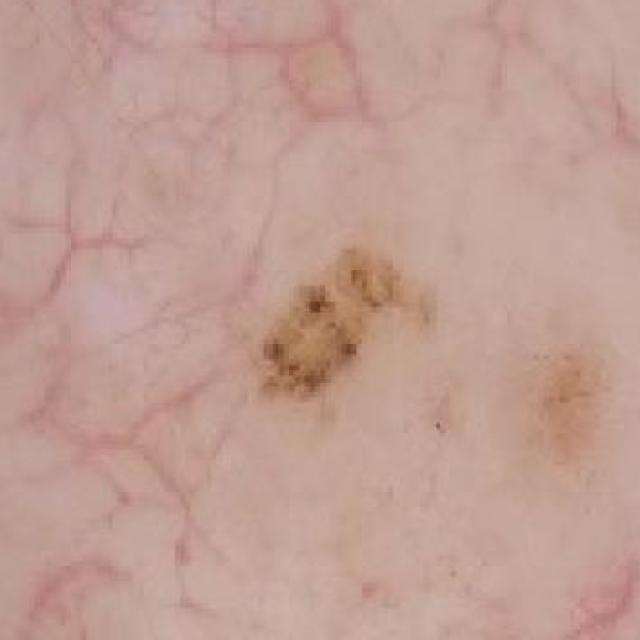BCC: (174, 144, 464, 455)
